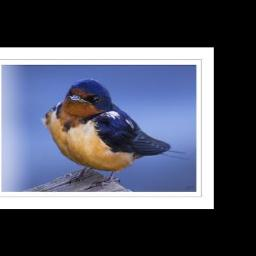Swallow: (40, 76, 190, 190)
